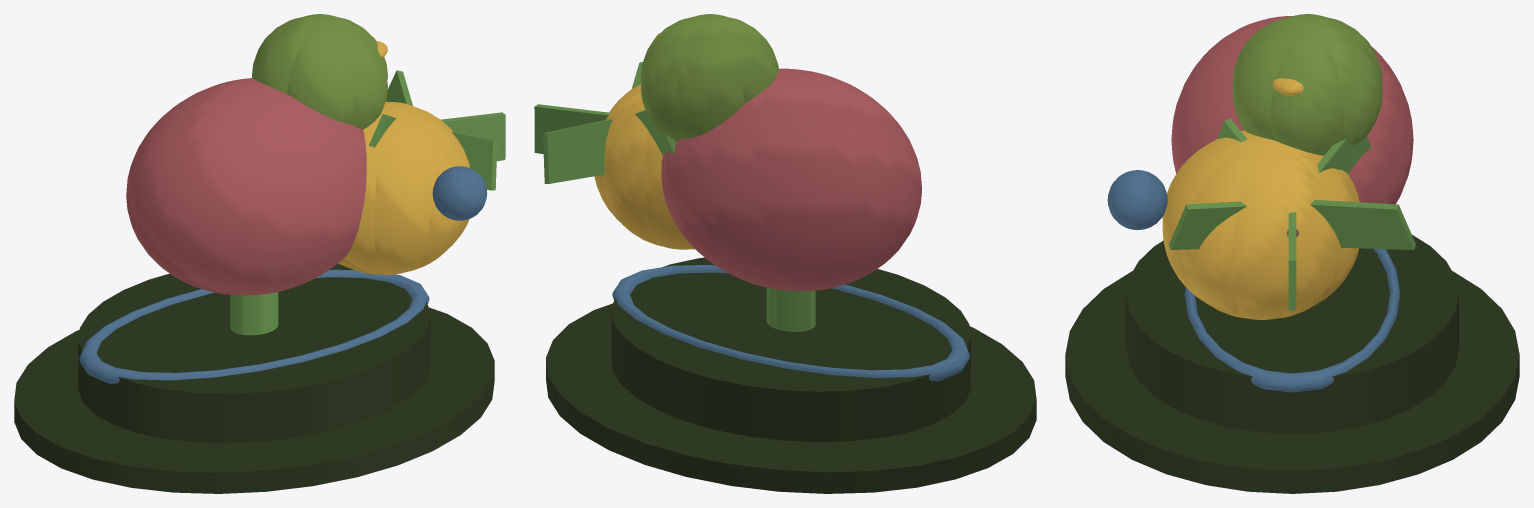
The model's file is 0618_蘑菇图鉴_冬虫夏草.glb.
3 views of the same model, side by side, from view 1: azimuth 30°, elevation 25°; view 2: azimuth 150°, elevation 25°; view 3: azimuth 270°, elevation 25° (orthographic). The views are drawn at different scales.
Parts seen in each view (by area): view 1: card_0618; view 2: card_0618; view 3: card_0618.
Part boxes in pixels (x1,y1,x2,y2): card_0618: (14, 14, 505, 493); card_0618: (534, 14, 1036, 493); card_0618: (1065, 14, 1519, 493).
Size of the model in its own units: 1.36 by 1 by 1.04.
